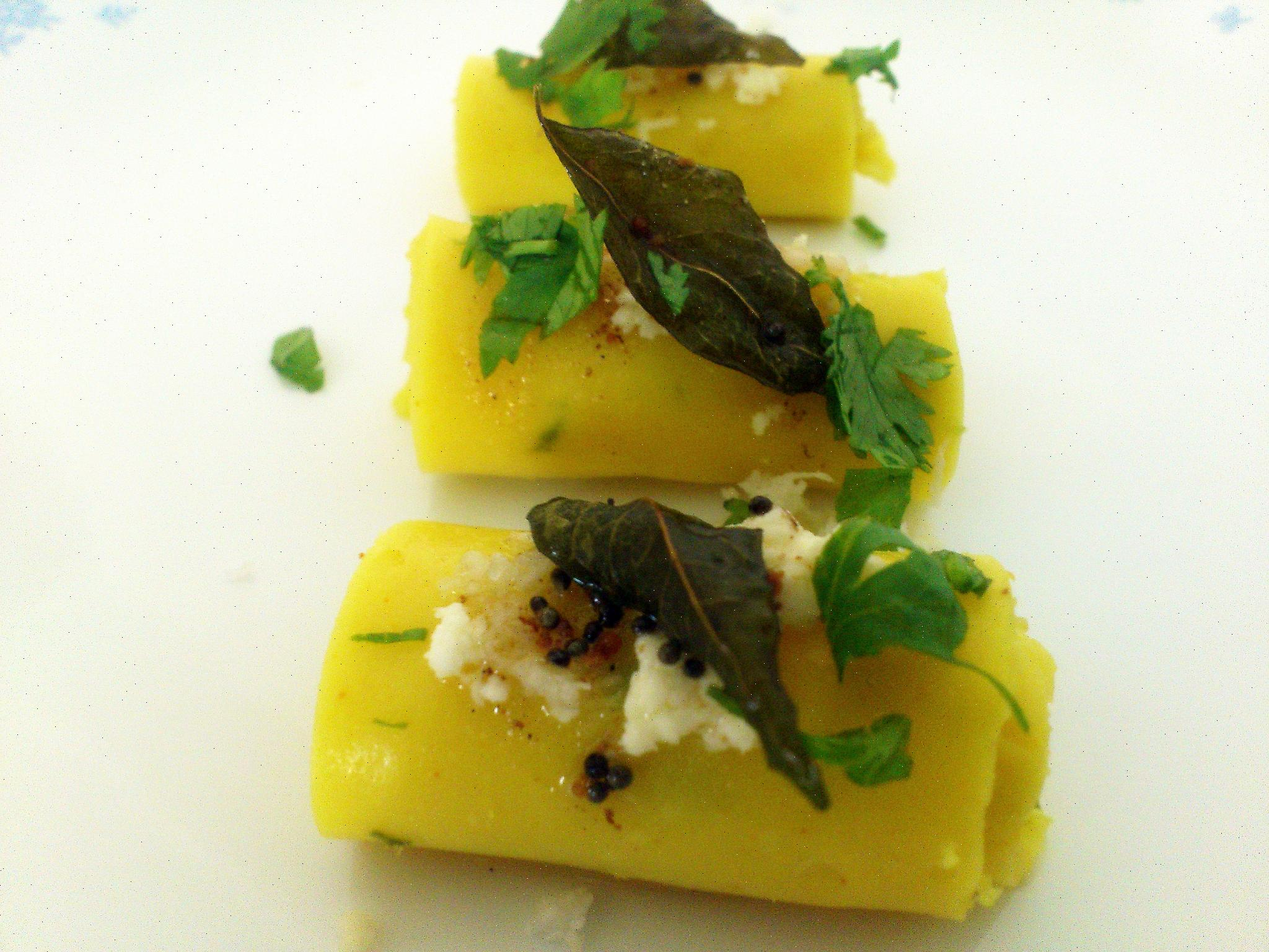khandvi: (412, 25, 1050, 861)
